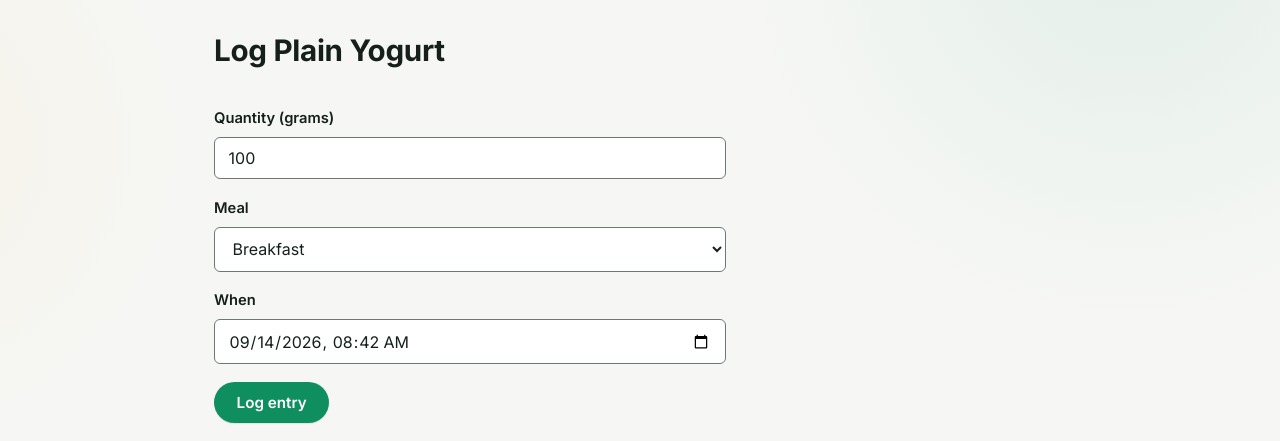
Test: LogFoodEntryForm › happy path: submits the exact LogFoodEntryRequest shape and shows the async-lag notice
Replace the text in the number field labelled "Quantity (grams)" with "150" at x=470, y=158, box [214,136,726,179]
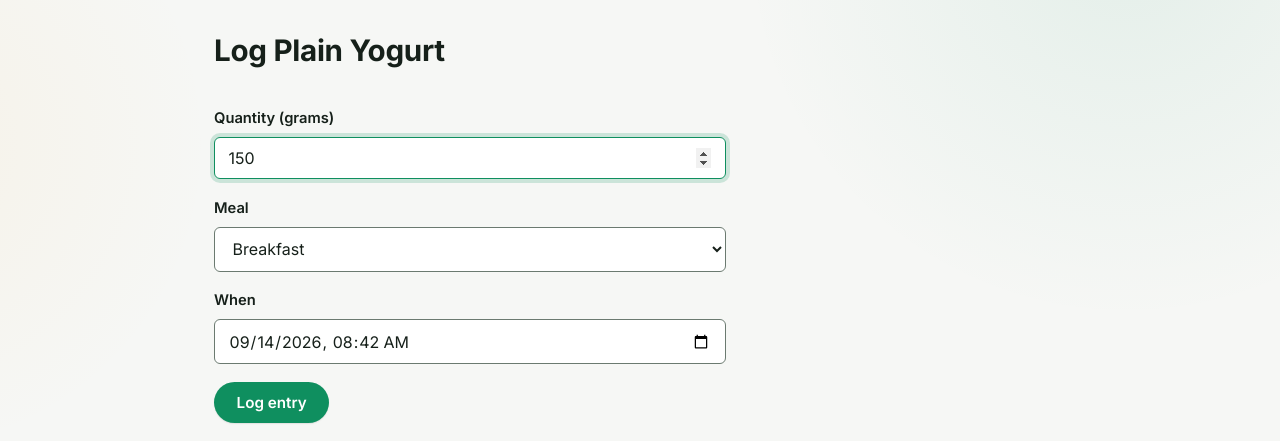
Click the button "Log entry".
click(272, 402)  # box [214,382,329,423]
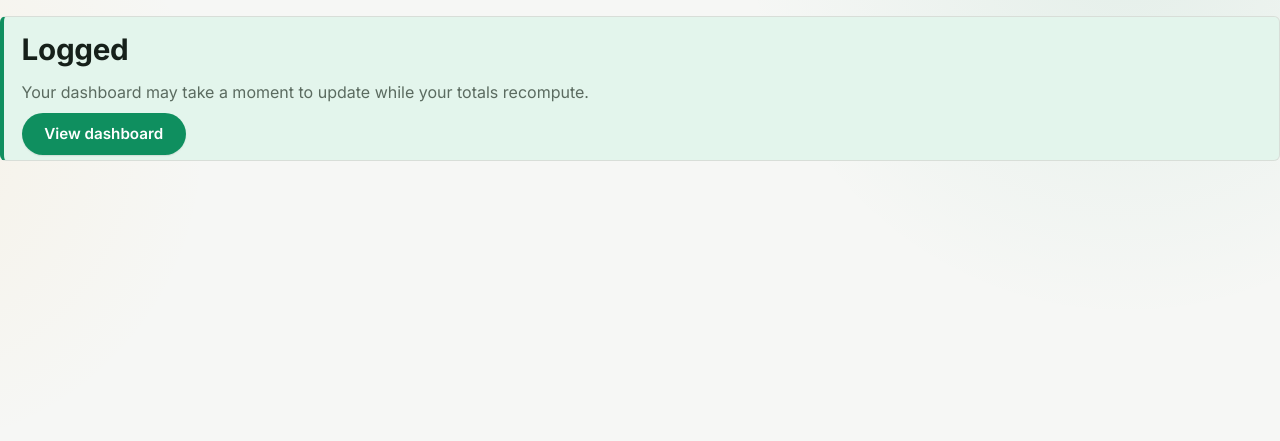
Expected: the text "may take a moment to update" is shown, [22,82,589,102]
